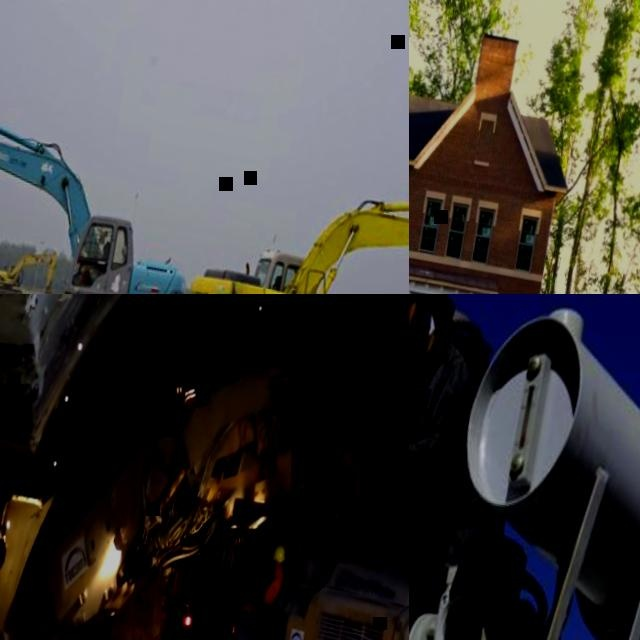Hardhat: (271, 543, 287, 562)
NO-Mask: (271, 563, 276, 570)
NO-Safety Vest: (409, 297, 485, 640)
Person: (409, 294, 561, 640), (229, 535, 290, 640), (97, 240, 110, 262), (271, 275, 281, 292)
Safety Vest: (262, 565, 287, 607)
machinery: (0, 313, 409, 640), (0, 93, 212, 294), (173, 128, 409, 294), (0, 240, 62, 294)
